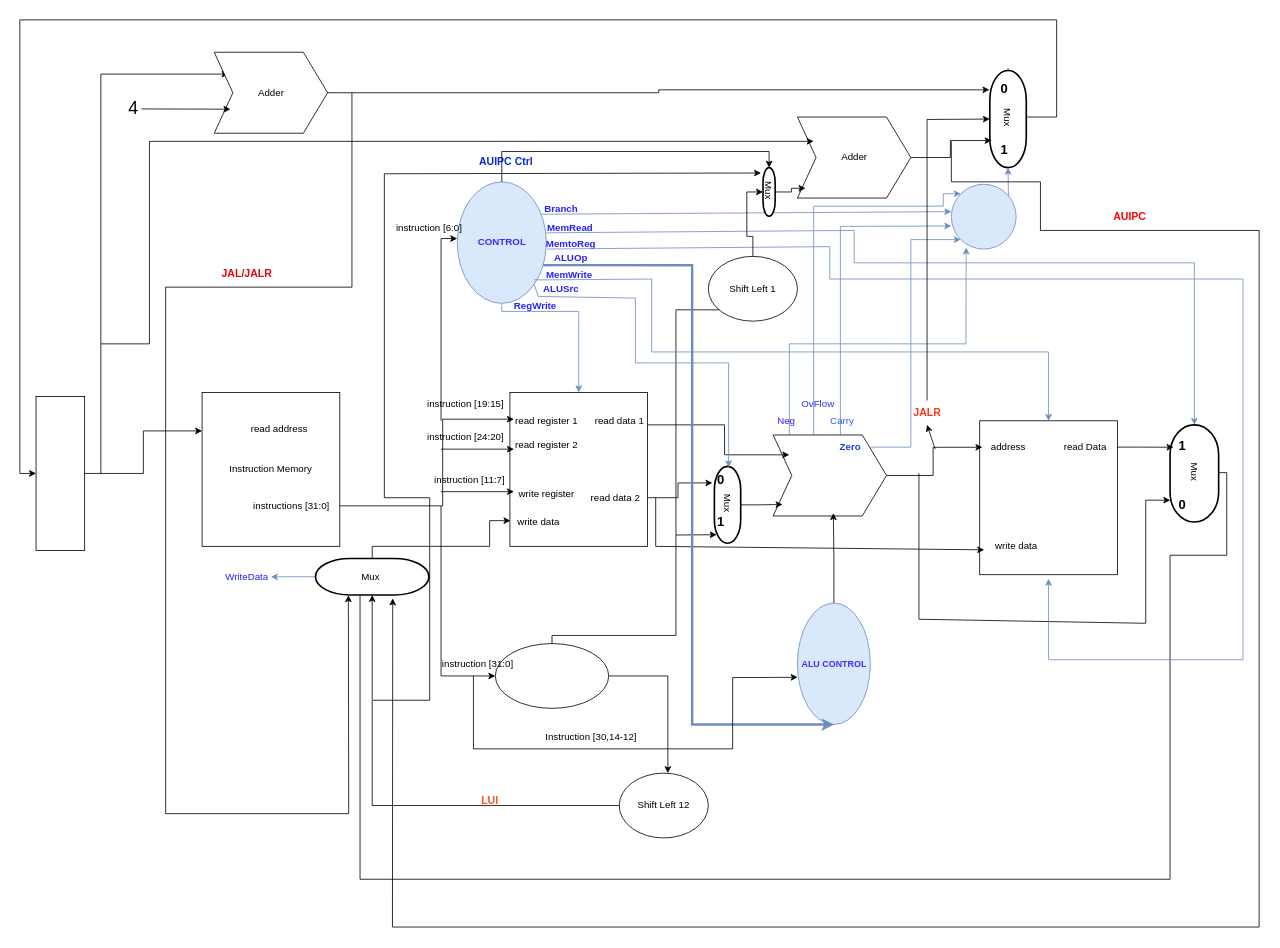
Image size: 1280x948. Some labels were removed from this diagram. Each missing label, with the box of its shape:
ALU: (772, 434, 887, 516)
Branch Control: (951, 183, 1016, 249)
Data Memory: (979, 420, 1117, 575)
Immediate Generator: (495, 643, 609, 708)
Program Counter: (35, 396, 85, 550)
Registers: (509, 392, 648, 546)
